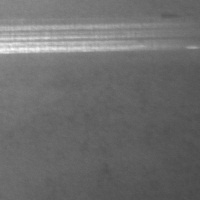scratches: (0, 25, 179, 55)
